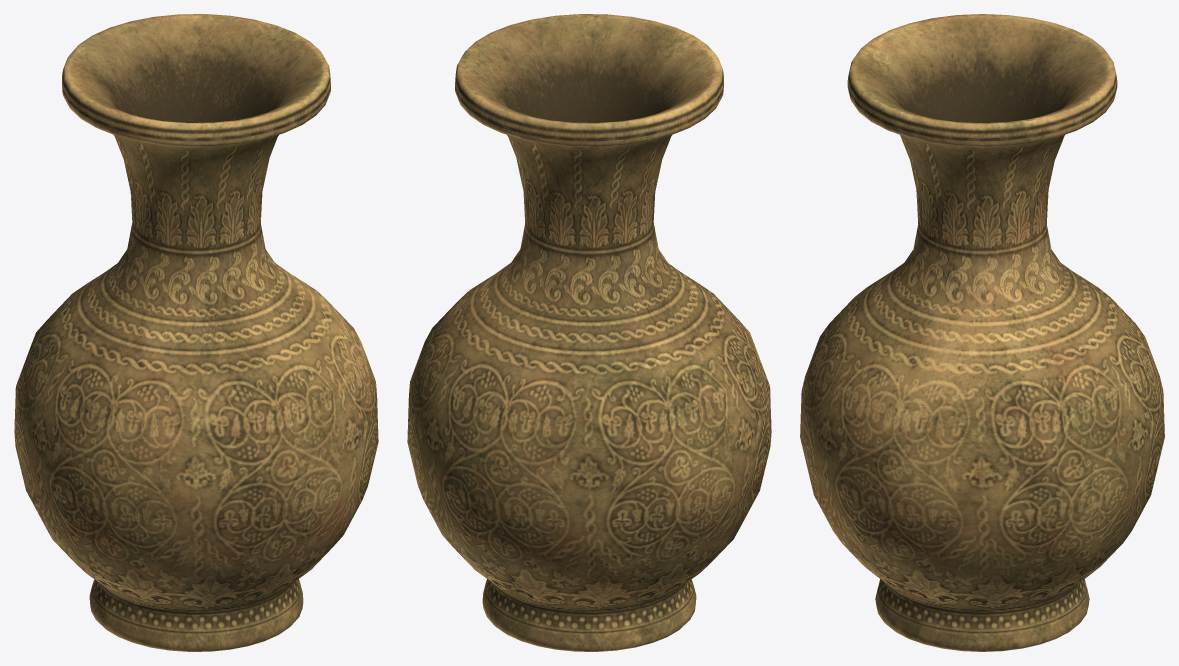
File: Antique_brass_vase.fbx
3 renders of one model, left to right at view 1: azimuth 30°, elevation 25°; view 2: azimuth 150°, elevation 25°; view 3: azimuth 270°, elevation 25°, orthographic.
Parts seen in each view (by area): view 1: Antique_brass_vase; view 2: Antique_brass_vase; view 3: Antique_brass_vase.
Part boxes in pixels (x1,y1,x2,y2): Antique_brass_vase: (14, 14, 378, 651); Antique_brass_vase: (407, 14, 771, 651); Antique_brass_vase: (800, 14, 1164, 651).
Bounding box in the file's own units: 9.41 × 15.37 × 9.41.
Materials: 1 (1 with a texture image).
